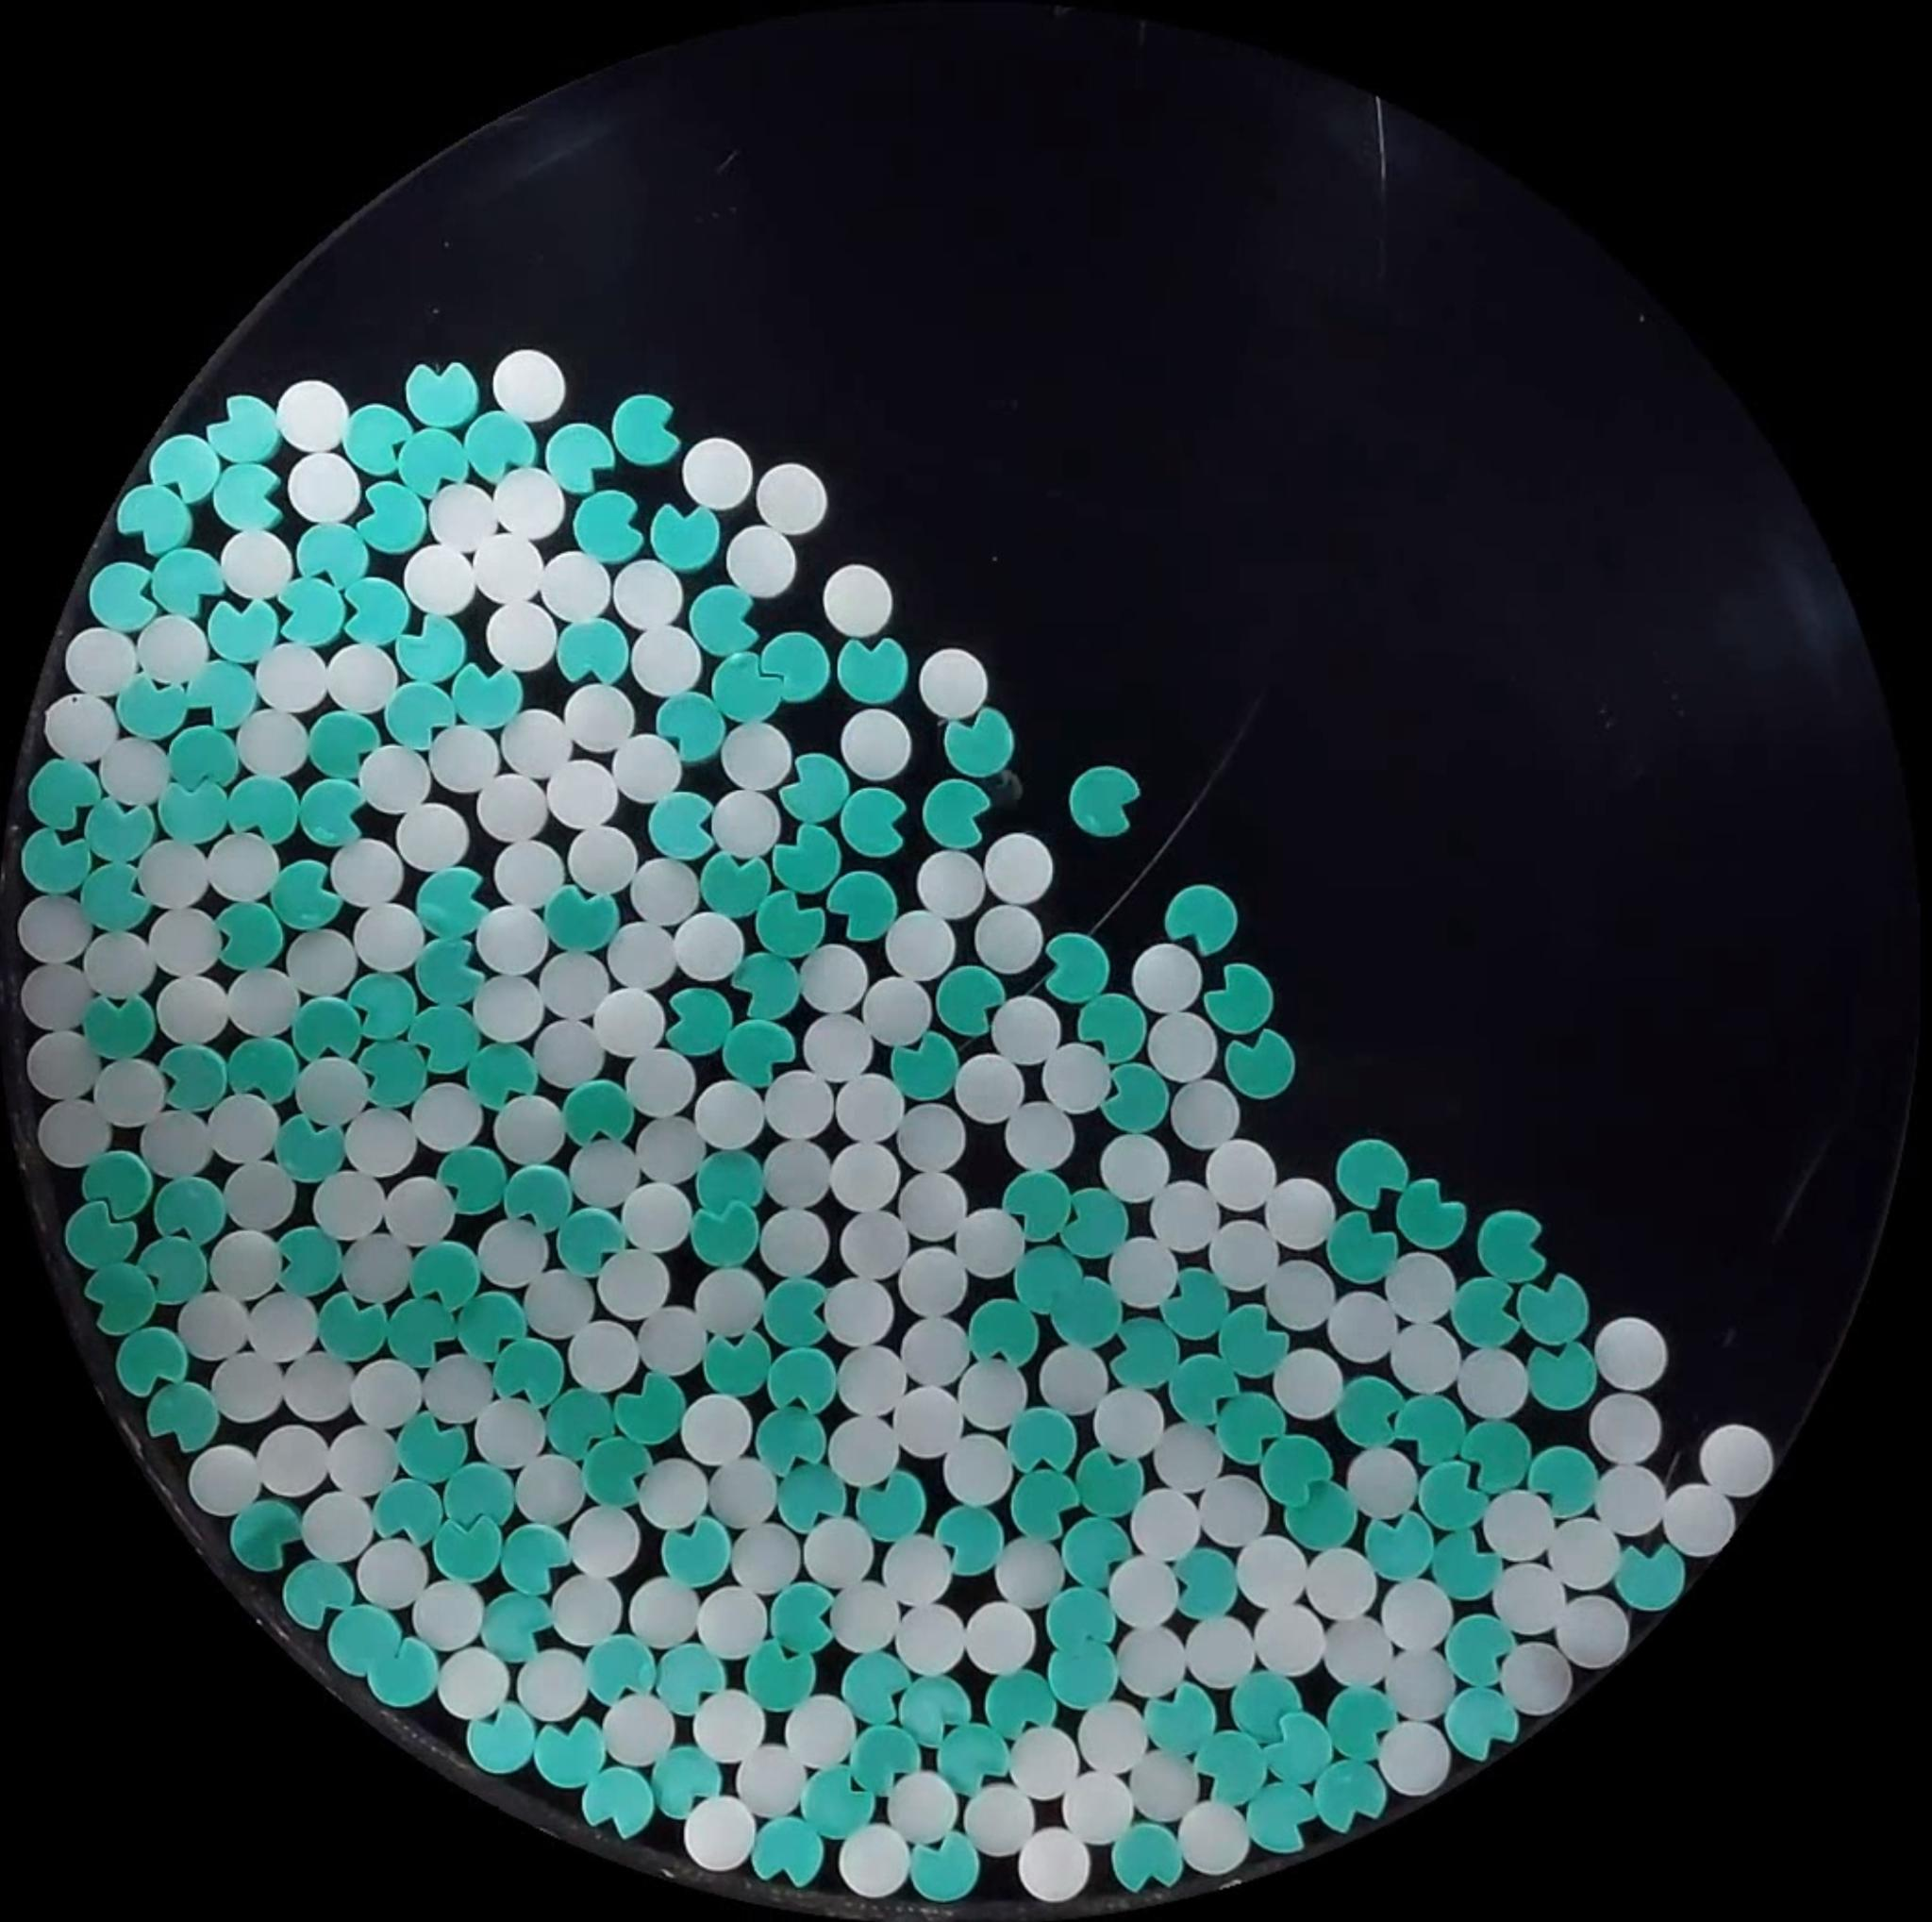disco-pmma: (1138, 1172, 1225, 1251), (1378, 1646, 1462, 1725), (253, 1422, 334, 1500), (294, 1058, 378, 1132), (683, 1794, 760, 1873), (311, 1165, 392, 1241), (202, 1227, 287, 1299), (1376, 1718, 1453, 1795), (25, 1028, 102, 1105), (1552, 1593, 1631, 1669), (894, 1098, 973, 1174), (1038, 1040, 1117, 1116), (1378, 1575, 1459, 1649), (1320, 1614, 1401, 1688), (728, 1521, 804, 1598), (16, 892, 93, 968), (1548, 1514, 1624, 1591), (1658, 1482, 1735, 1558), (1696, 1424, 1774, 1500), (1592, 1463, 1668, 1540), (384, 1172, 461, 1248), (954, 1357, 1033, 1431), (892, 1598, 966, 1677), (567, 1503, 642, 1579), (692, 1688, 767, 1764), (187, 1441, 262, 1517), (1592, 1315, 1668, 1390), (1499, 1640, 1575, 1716), (836, 1822, 911, 1897), (1587, 1390, 1663, 1466), (327, 1422, 403, 1498), (1385, 1318, 1460, 1394), (1492, 1558, 1568, 1633), (1306, 1544, 1381, 1619), (253, 642, 331, 716), (890, 1383, 964, 1461), (91, 1054, 169, 1128), (137, 838, 215, 912), (561, 822, 639, 896), (62, 625, 139, 699), (274, 378, 352, 452), (42, 690, 120, 764), (516, 1449, 593, 1522), (338, 1229, 417, 1301), (137, 1111, 220, 1179), (595, 1248, 670, 1322), (354, 1537, 429, 1610), (630, 620, 706, 693), (600, 1691, 676, 1765), (591, 986, 667, 1060), (1010, 1725, 1084, 1801), (735, 1742, 811, 1816), (236, 704, 311, 778), (679, 1390, 755, 1464), (475, 903, 551, 977), (435, 1646, 510, 1720), (1263, 1174, 1337, 1250), (1204, 1135, 1277, 1211), (1017, 1827, 1093, 1901), (297, 1489, 373, 1563), (941, 1436, 1017, 1510), (962, 1598, 1038, 1672), (1109, 1556, 1184, 1630), (1204, 1220, 1279, 1294), (79, 929, 157, 1001), (33, 1097, 111, 1169), (834, 1072, 906, 1149), (827, 1581, 904, 1653), (338, 1104, 417, 1174), (825, 1144, 904, 1214), (625, 1304, 706, 1373), (1321, 1297, 1404, 1364), (516, 1647, 589, 1721), (706, 1456, 779, 1530), (962, 1783, 1036, 1857), (695, 1584, 769, 1658), (526, 1264, 600, 1338), (611, 732, 686, 804), (329, 836, 405, 908), (223, 965, 299, 1037), (218, 528, 294, 600), (693, 1077, 769, 1149), (155, 973, 231, 1045), (802, 1514, 875, 1589), (827, 1417, 903, 1489), (1075, 1700, 1151, 1772), (348, 901, 426, 972), (134, 613, 211, 683), (470, 530, 547, 600), (348, 1355, 426, 1426), (1344, 1447, 1422, 1517), (282, 929, 361, 998), (623, 1044, 697, 1116), (568, 1318, 640, 1392), (222, 1156, 296, 1229), (537, 549, 611, 621), (545, 759, 619, 831), (484, 598, 558, 671), (1455, 1345, 1527, 1419), (1168, 1077, 1242, 1149), (612, 558, 686, 630), (287, 451, 361, 523), (563, 681, 637, 753), (99, 734, 172, 806), (1177, 1801, 1249, 1874), (681, 436, 755, 509), (897, 1315, 970, 1389), (1153, 1422, 1226, 1494), (1147, 1010, 1219, 1084), (1198, 1475, 1270, 1549), (472, 973, 547, 1044), (670, 910, 746, 980), (1126, 1751, 1202, 1822), (716, 723, 792, 794), (758, 1207, 834, 1278), (901, 1246, 977, 1317), (12, 963, 91, 1030), (823, 1280, 903, 1346), (915, 850, 987, 922), (783, 1697, 855, 1769), (501, 708, 574, 780), (475, 771, 547, 843), (725, 525, 797, 597), (1131, 942, 1204, 1014), (984, 833, 1056, 905), (757, 461, 829, 533), (1063, 1771, 1135, 1843), (885, 1769, 957, 1841), (823, 563, 896, 635), (213, 1095, 285, 1167), (172, 1288, 245, 1361), (243, 1288, 315, 1361), (632, 1575, 704, 1647), (762, 1070, 836, 1141), (628, 855, 702, 926), (324, 642, 398, 713), (709, 789, 783, 859), (394, 803, 468, 873), (410, 1581, 484, 1651), (204, 833, 278, 903), (493, 348, 567, 419), (1091, 1389, 1165, 1459), (1008, 1098, 1079, 1172), (1480, 1489, 1554, 1559), (549, 1575, 625, 1644), (618, 1185, 693, 1253), (531, 1023, 607, 1091), (567, 1141, 644, 1207), (894, 1174, 975, 1237), (860, 973, 933, 1044), (973, 905, 1045, 975), (491, 836, 563, 906), (841, 708, 913, 778), (410, 1082, 482, 1153), (493, 466, 565, 537), (405, 544, 477, 614), (429, 482, 501, 553), (428, 723, 498, 796), (285, 1350, 355, 1422), (762, 1137, 834, 1207), (1181, 1616, 1253, 1686), (952, 1207, 1026, 1276), (1240, 1535, 1309, 1609), (992, 1538, 1068, 1605), (426, 1346, 491, 1424), (918, 648, 989, 718), (475, 1396, 545, 1466), (480, 1218, 551, 1288), (633, 1116, 704, 1186), (841, 1209, 911, 1280), (887, 913, 959, 982), (1117, 1625, 1186, 1697), (1270, 1348, 1343, 1417), (1100, 1133, 1174, 1200), (150, 908, 225, 973), (693, 1267, 769, 1332), (804, 1014, 875, 1082), (1135, 1494, 1205, 1563), (994, 994, 1063, 1065), (836, 1348, 911, 1412), (498, 1095, 565, 1165), (362, 745, 435, 810), (209, 1355, 287, 1415), (1040, 1345, 1109, 1412), (957, 1054, 1026, 1121), (1109, 1234, 1175, 1302), (1267, 1262, 1336, 1329), (1385, 1257, 1453, 1324), (639, 1459, 709, 1524), (885, 1538, 952, 1605), (1256, 1607, 1323, 1674), (611, 922, 672, 991), (538, 950, 604, 1014), (809, 947, 875, 1010)
